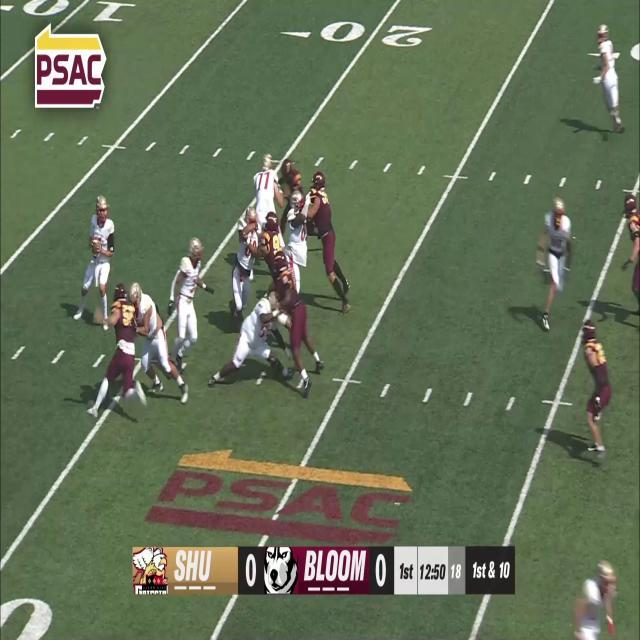football: (90, 237, 100, 259)
